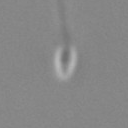normal: (50, 1, 72, 43)
